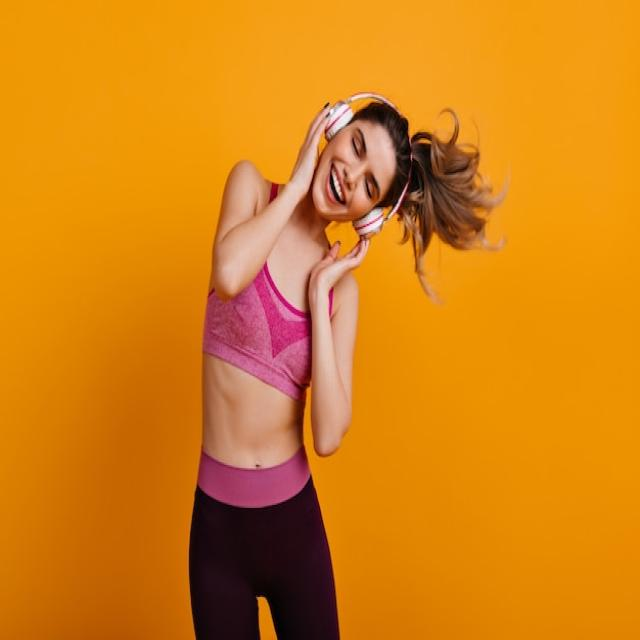Headphone: (323, 91, 413, 238)
